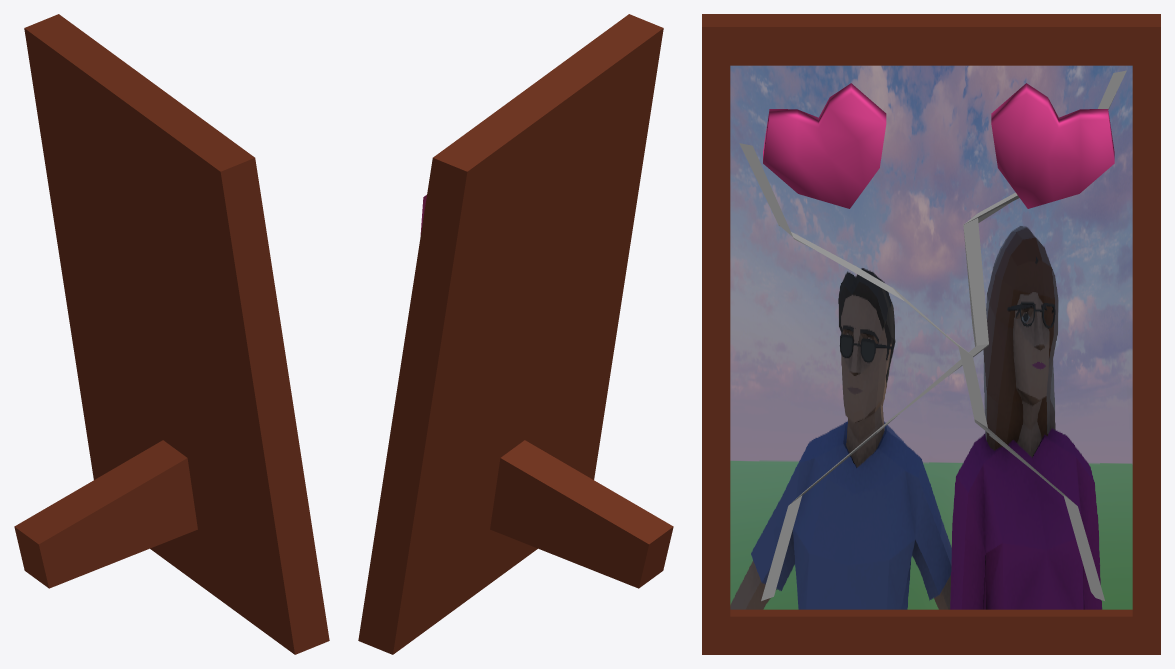
Rendered from RetratCasado.fbx.
3 renders of one model, left to right at view 1: azimuth 30°, elevation 25°; view 2: azimuth 150°, elevation 25°; view 3: azimuth 270°, elevation 25°, orthographic. The views are drawn at different scales.
Parts seen in each view (by area): view 1: Cube.005; view 2: Cube.005; view 3: Cube.005.
Boxes of the visible parts, left/top/right/bottom form: Cube.005: left=14, top=14, right=329, bottom=654; Cube.005: left=358, top=14, right=673, bottom=654; Cube.005: left=702, top=14, right=1160, bottom=654.
Bounding box in the file's own units: 303 × 717 × 503.
